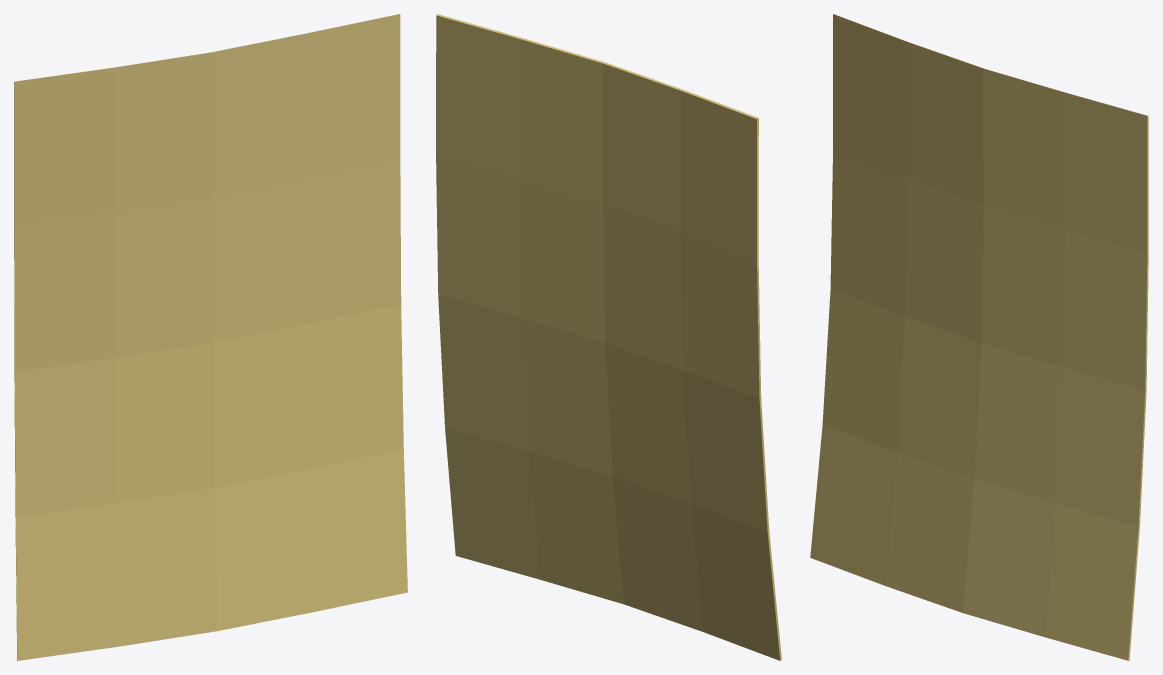
The model's file is lap1-3x.fbx.
3 renders of one model, left to right at view 1: azimuth 30°, elevation 25°; view 2: azimuth 150°, elevation 25°; view 3: azimuth 330°, elevation 25°, orthographic. The views are drawn at different scales.
Parts seen in each view (by area): view 1: Lap; view 2: Lap; view 3: Lap.
Part boxes in pixels (x1,y1,x2,y2): Lap: [14, 14, 407, 660]; Lap: [436, 14, 781, 660]; Lap: [810, 14, 1148, 660].
Bounding box in the file's own units: 27.32 × 40.06 × 5.38.
